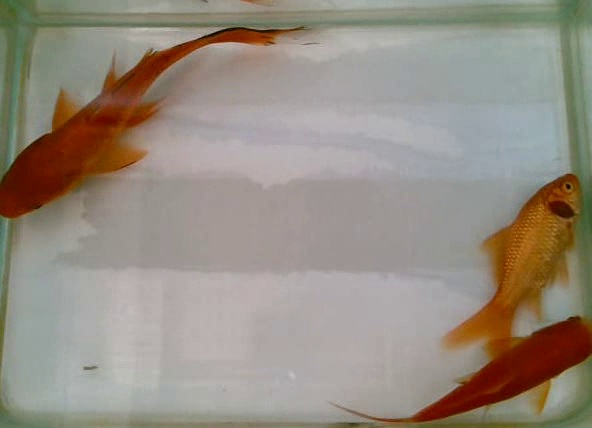alive_fish: (1, 14, 329, 221), (324, 310, 592, 428)
dead_fish: (439, 169, 592, 357)
